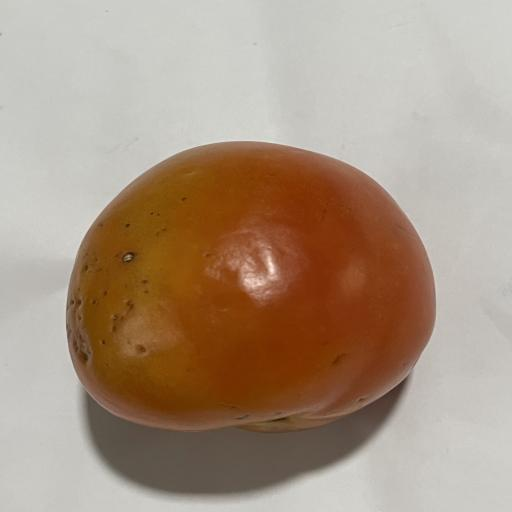overipe: (67, 142, 435, 431)
